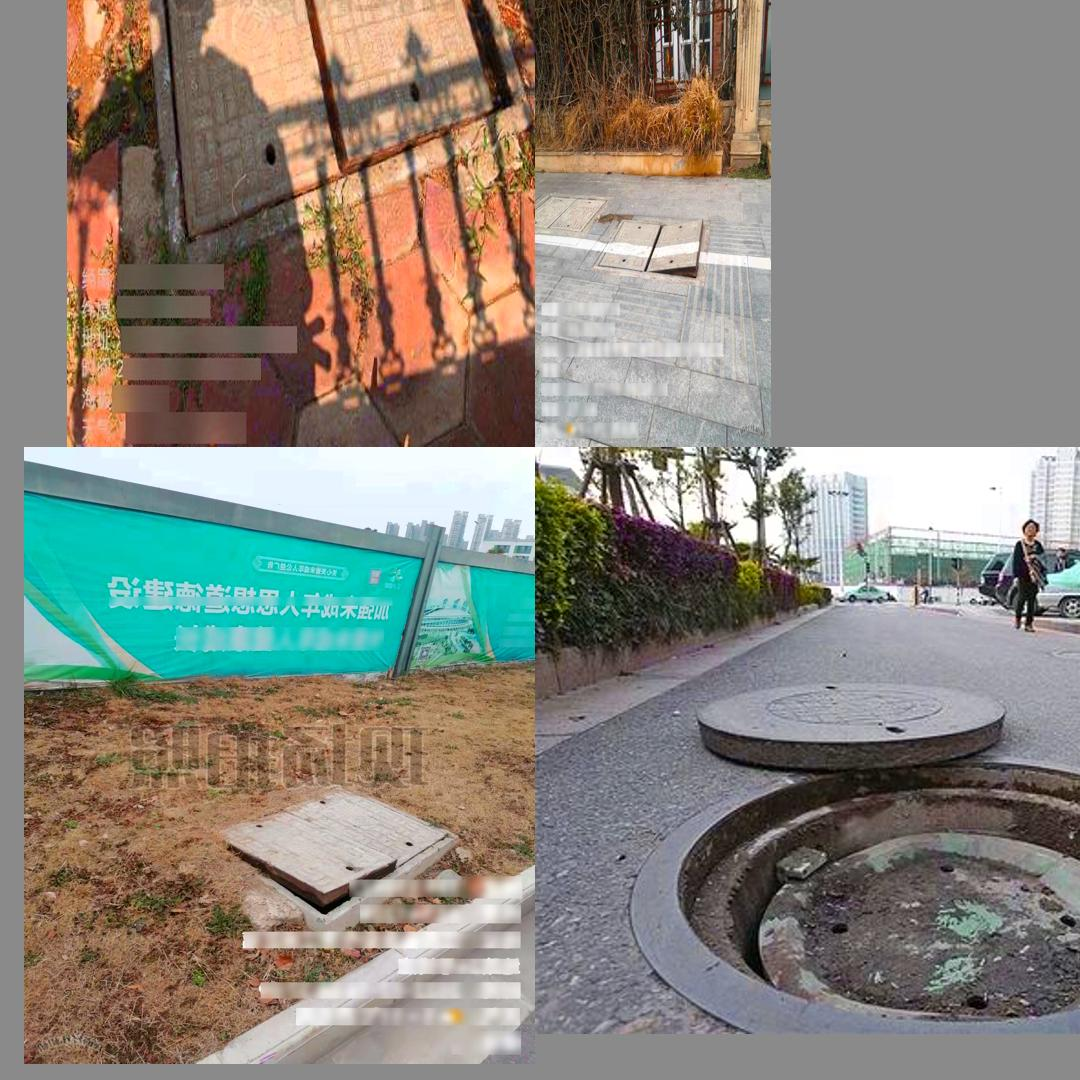good: (535, 193, 607, 236)
uncovered: (615, 658, 1080, 1032), (141, 0, 530, 275), (214, 784, 460, 918), (593, 217, 709, 284)
